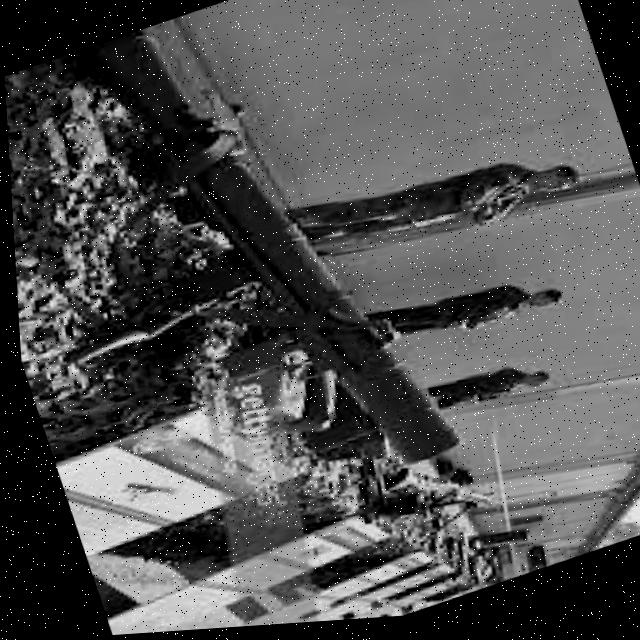rocket: (3, 0, 533, 562)
